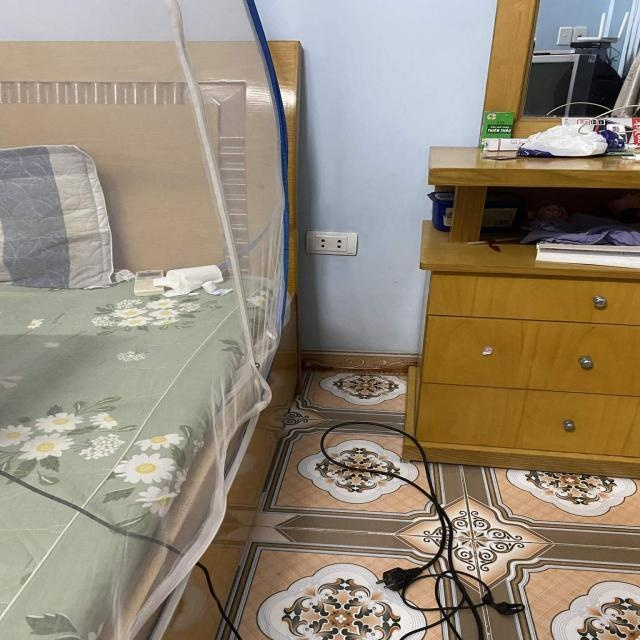outlet: (305, 230, 357, 256)
